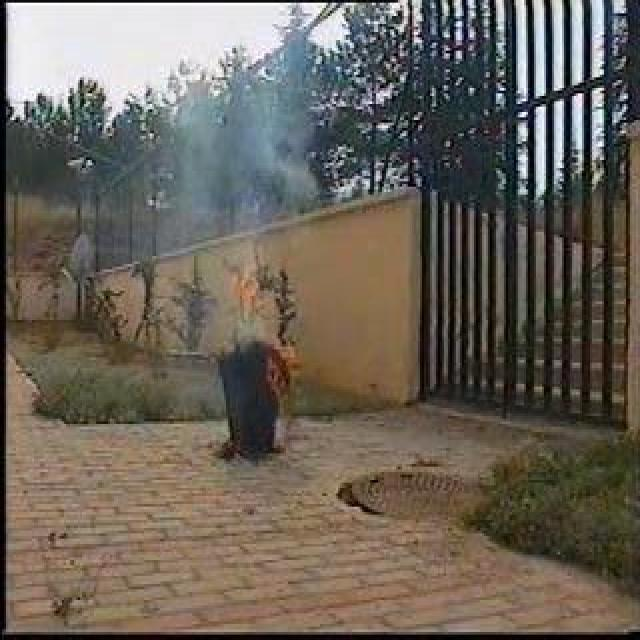fire: (228, 265, 300, 391)
smoke: (191, 112, 283, 245)
